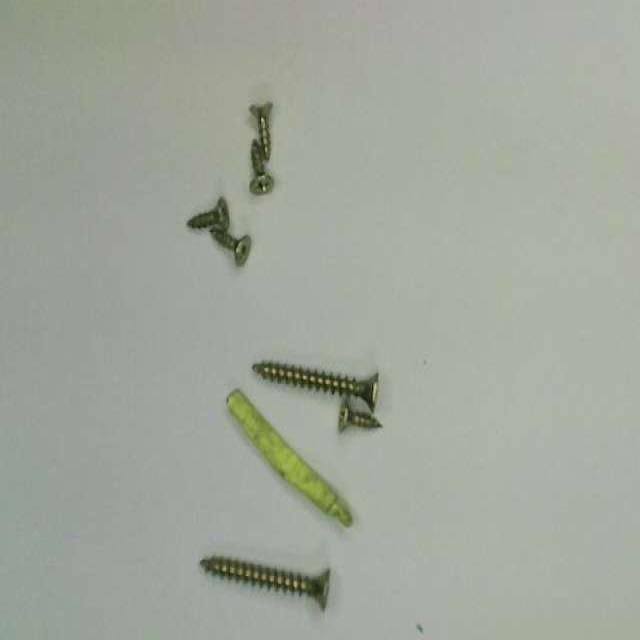Parafuso: (201, 556, 329, 609), (253, 361, 377, 409), (211, 229, 251, 264), (188, 197, 228, 231), (339, 400, 381, 431), (249, 104, 272, 159), (251, 140, 273, 192)
